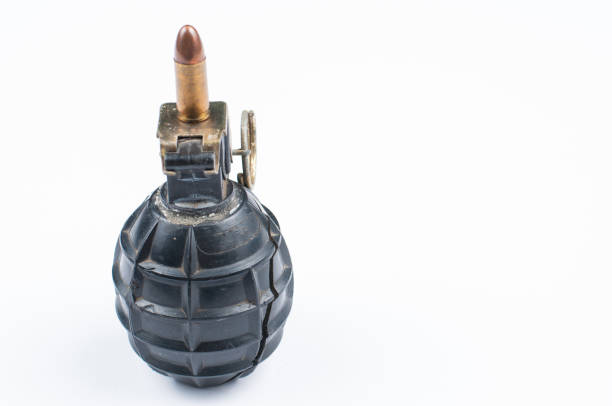e1: (109, 95, 290, 388)
